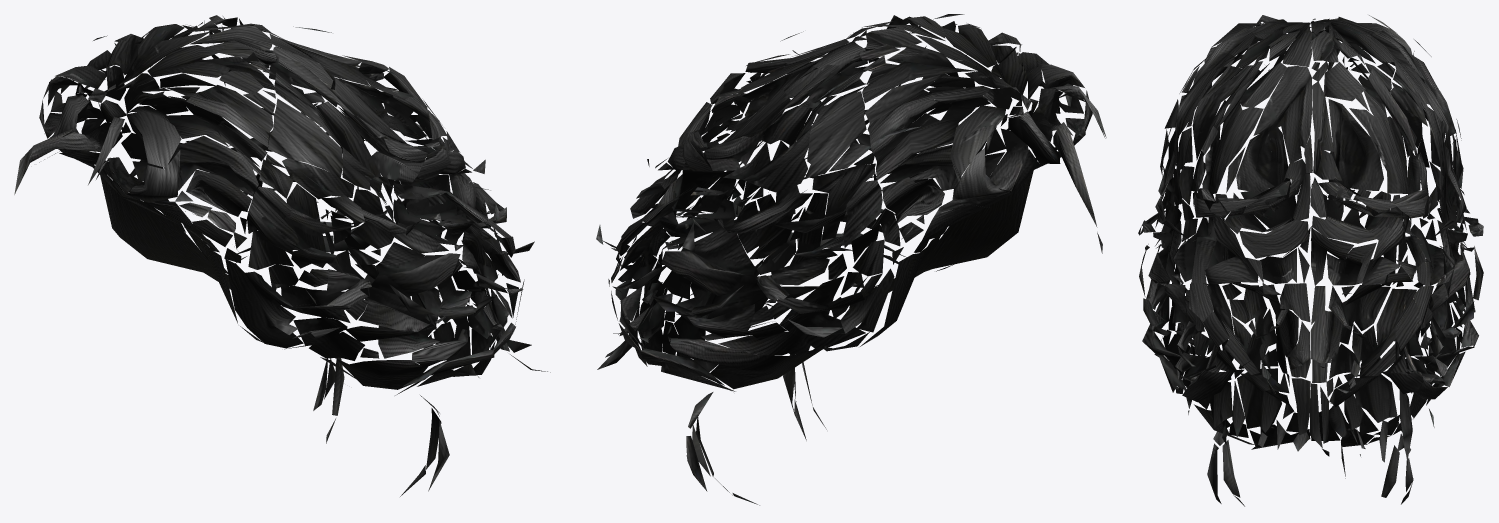
The model's file is hair01.glb.
The picture shows the model from 3 angles, left to right: view 1: azimuth 30°, elevation 25°; view 2: azimuth 150°, elevation 25°; view 3: azimuth 270°, elevation 25°; orthographic projection. The views are drawn at different scales.
Parts seen in each view (by area): view 1: tripo_node_620da454-47e6-4bfd-8a71-d5e65583193a; view 2: tripo_node_620da454-47e6-4bfd-8a71-d5e65583193a; view 3: tripo_node_620da454-47e6-4bfd-8a71-d5e65583193a.
Part boxes in pixels (box(x1,y1,x2,y2)): tripo_node_620da454-47e6-4bfd-8a71-d5e65583193a: box(14, 15, 550, 496); tripo_node_620da454-47e6-4bfd-8a71-d5e65583193a: box(596, 14, 1106, 505); tripo_node_620da454-47e6-4bfd-8a71-d5e65583193a: box(1138, 15, 1483, 506).
Size of the model in its own units: 0.3776 by 0.355 by 0.2603.
1 material, 1 textured.
